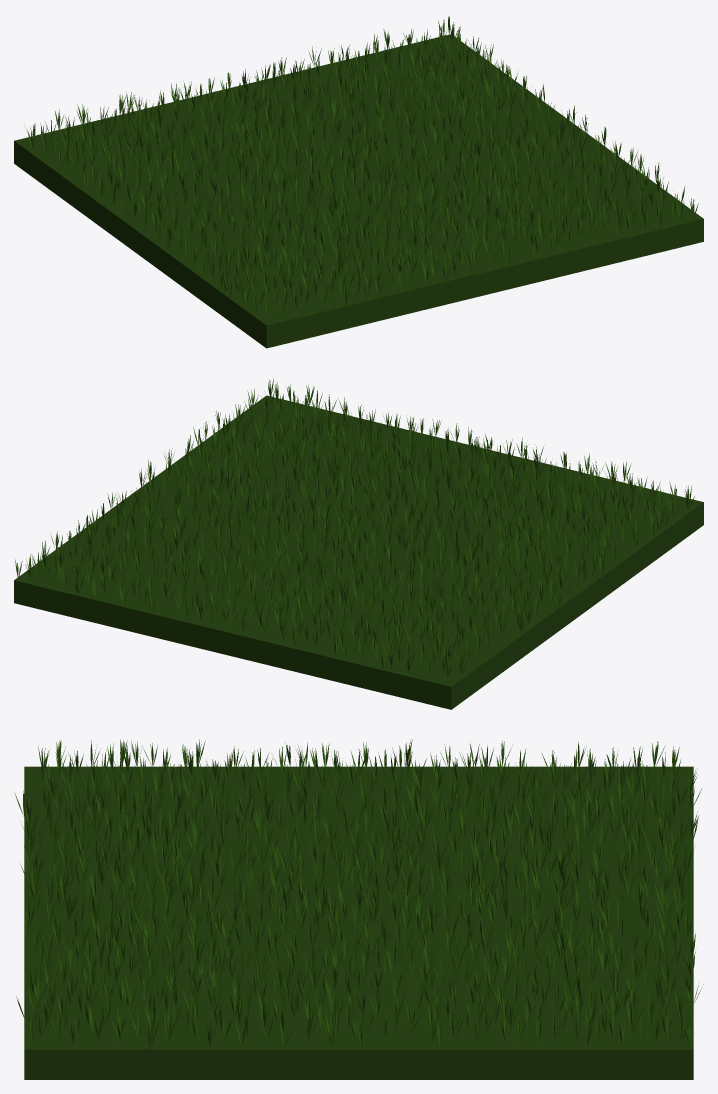
The model's file is trees_lawn.glb.
3 renders of one model, top to bottom at view 1: azimuth 30°, elevation 25°; view 2: azimuth 150°, elevation 25°; view 3: azimuth 270°, elevation 25°, orthographic. The views are drawn at different scales.
Parts seen in each view (by area): view 1: ground, grass; view 2: ground, grass; view 3: ground, grass.
Part boxes in pixels (box(x1,y1,x2,y2)): ground: box(14, 34, 703, 348); grass: box(27, 16, 698, 317); ground: box(14, 395, 703, 709); grass: box(15, 379, 694, 677); ground: box(24, 766, 693, 1079); grass: box(14, 739, 703, 1048).
Bounding box in the file's own units: 1.02 × 0.095 × 1.03.
